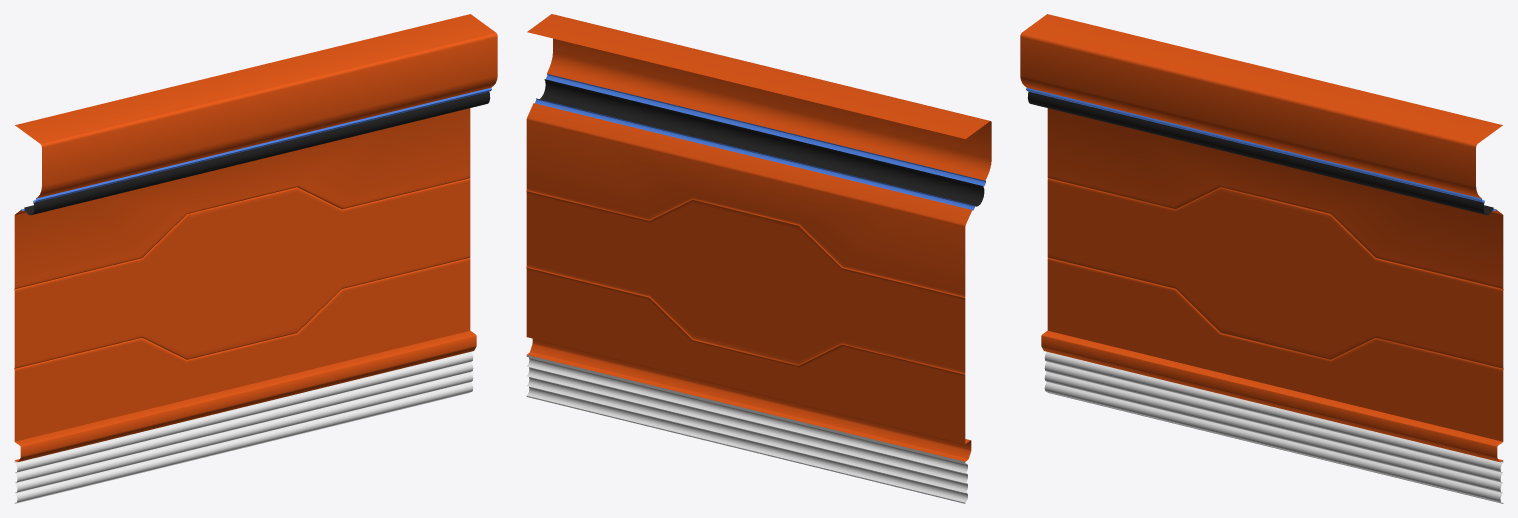
File: GymWall.fbx
The picture shows the model from 3 angles, left to right: view 1: azimuth 30°, elevation 25°; view 2: azimuth 150°, elevation 25°; view 3: azimuth 330°, elevation 25°; orthographic projection. The views are drawn at different scales.
Parts seen in each view (by area): view 1: GymWall; view 2: GymWall; view 3: GymWall.
Boxes of the visible parts, <box> form: GymWall: <box>14,14,497,503</box>; GymWall: <box>526,14,991,503</box>; GymWall: <box>1020,14,1503,503</box>.
Size of the model in its own units: 578 by 459 by 60.88.
